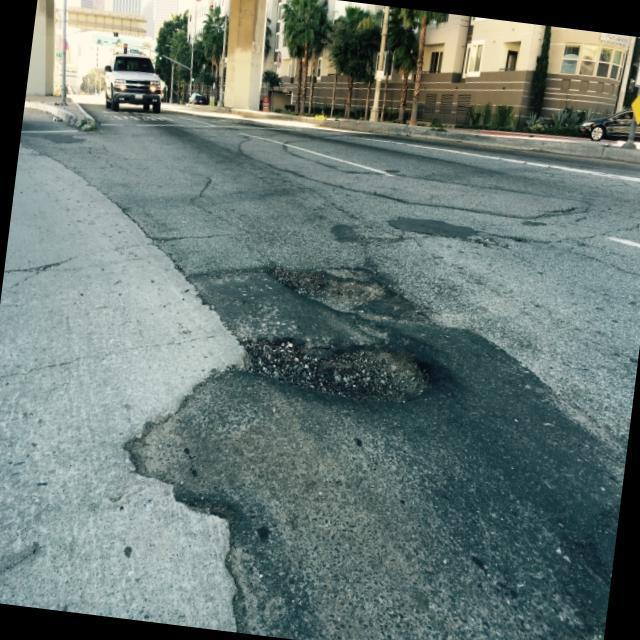Pothole: (231, 326, 462, 414), (255, 254, 424, 328)
